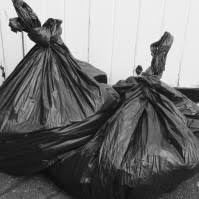Trash: (3, 5, 118, 179), (89, 41, 197, 195)
